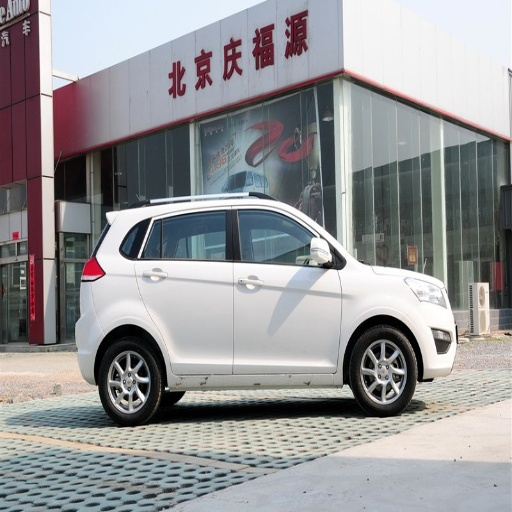back_right_door: (139, 205, 233, 374)
front_right_door: (233, 206, 341, 373)
